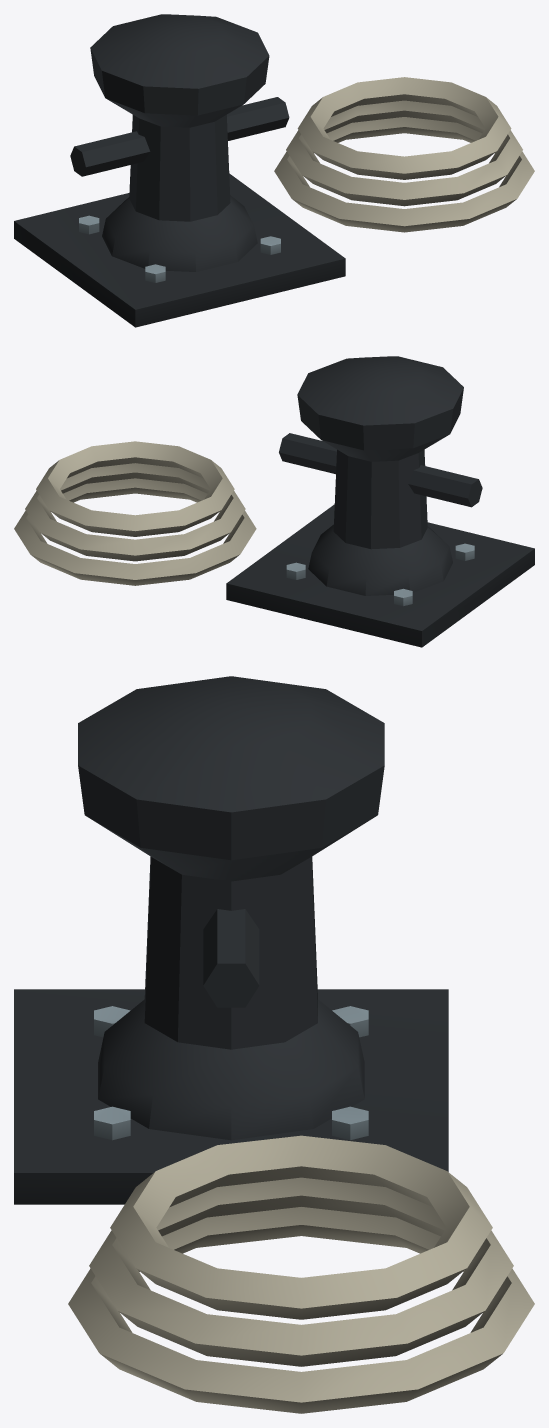
Rendered from mooring-post.lod1.glb.
The picture shows the model from 3 angles, top to bottom: view 1: azimuth 30°, elevation 25°; view 2: azimuth 150°, elevation 25°; view 3: azimuth 270°, elevation 25°; orthographic projection. The views are drawn at different scales.
Visible parts, largest first — view 1: structure; view 2: structure; view 3: structure.
Part boxes in pixels (bbox=[...]): structure: bbox=[14, 14, 534, 327]; structure: bbox=[14, 356, 534, 647]; structure: bbox=[14, 676, 534, 1413].
Size of the model in its own units: 1.36 by 0.64 by 0.743.
